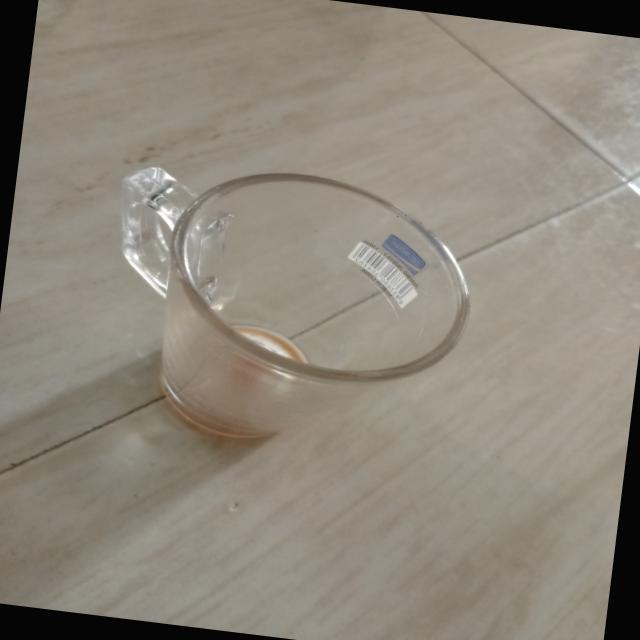glass-VX4N: (90, 150, 482, 473)
